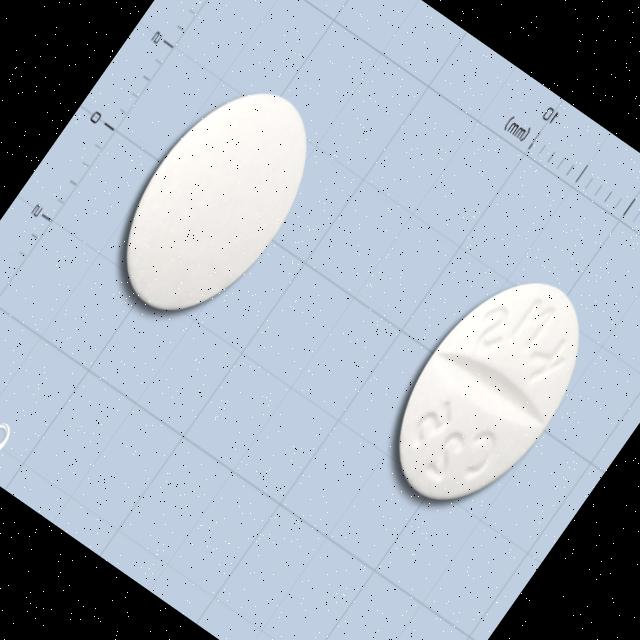Cyspec: (360, 248, 616, 534), (88, 60, 343, 342)
